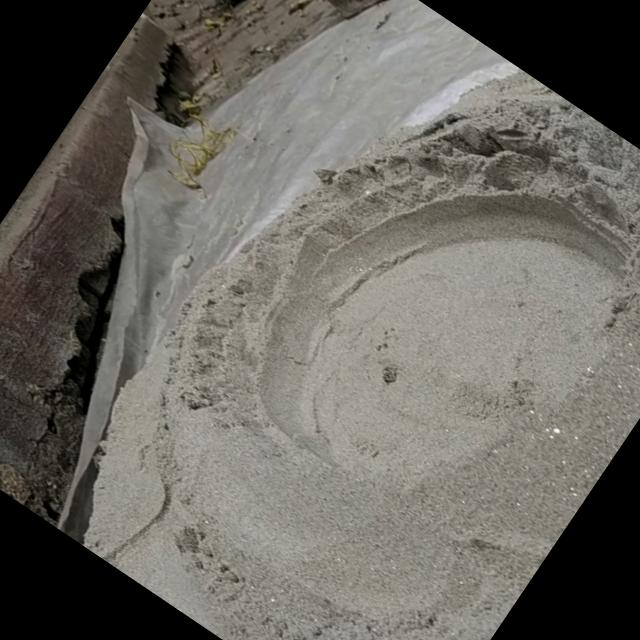C40: (258, 191, 625, 470)
